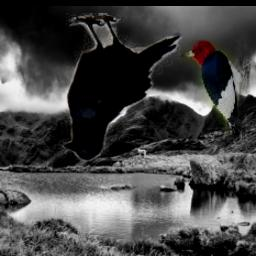Crow: (59, 13, 183, 162)
Woodpecker: (180, 40, 251, 143)
